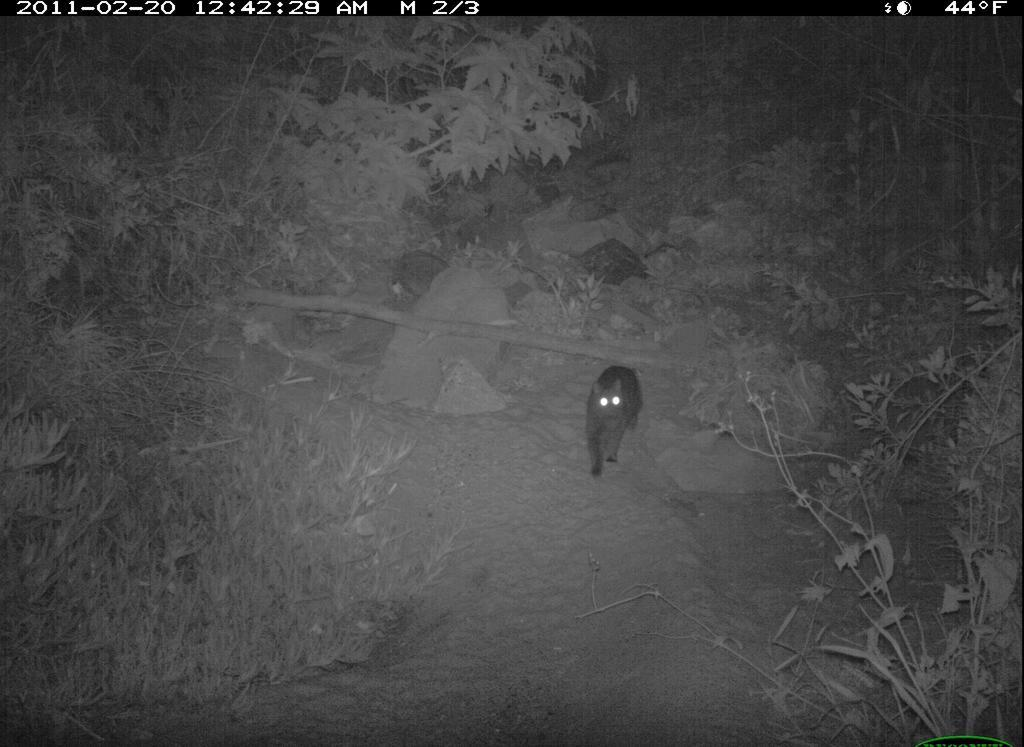cat: (580, 363, 649, 478)
